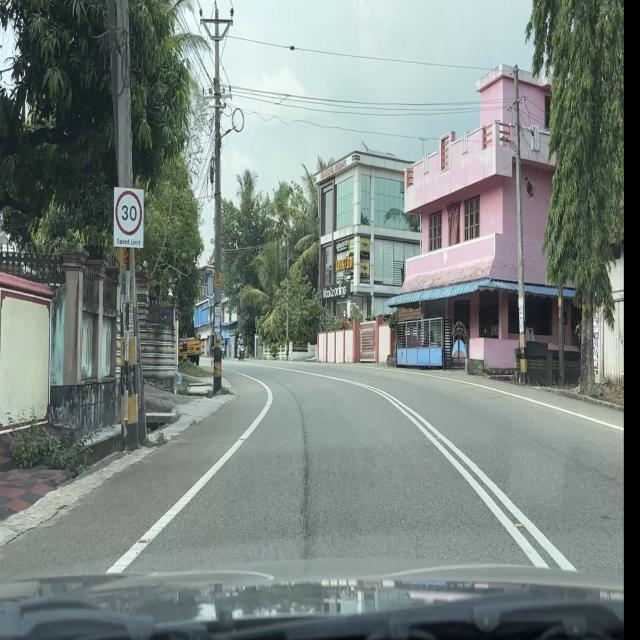SPEED_LIMIT_30: (114, 186, 144, 249)
